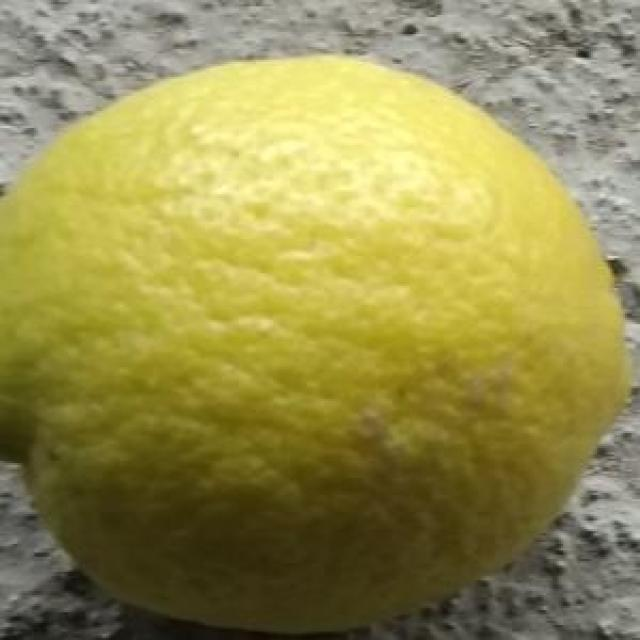lemon: (2, 51, 626, 636)
